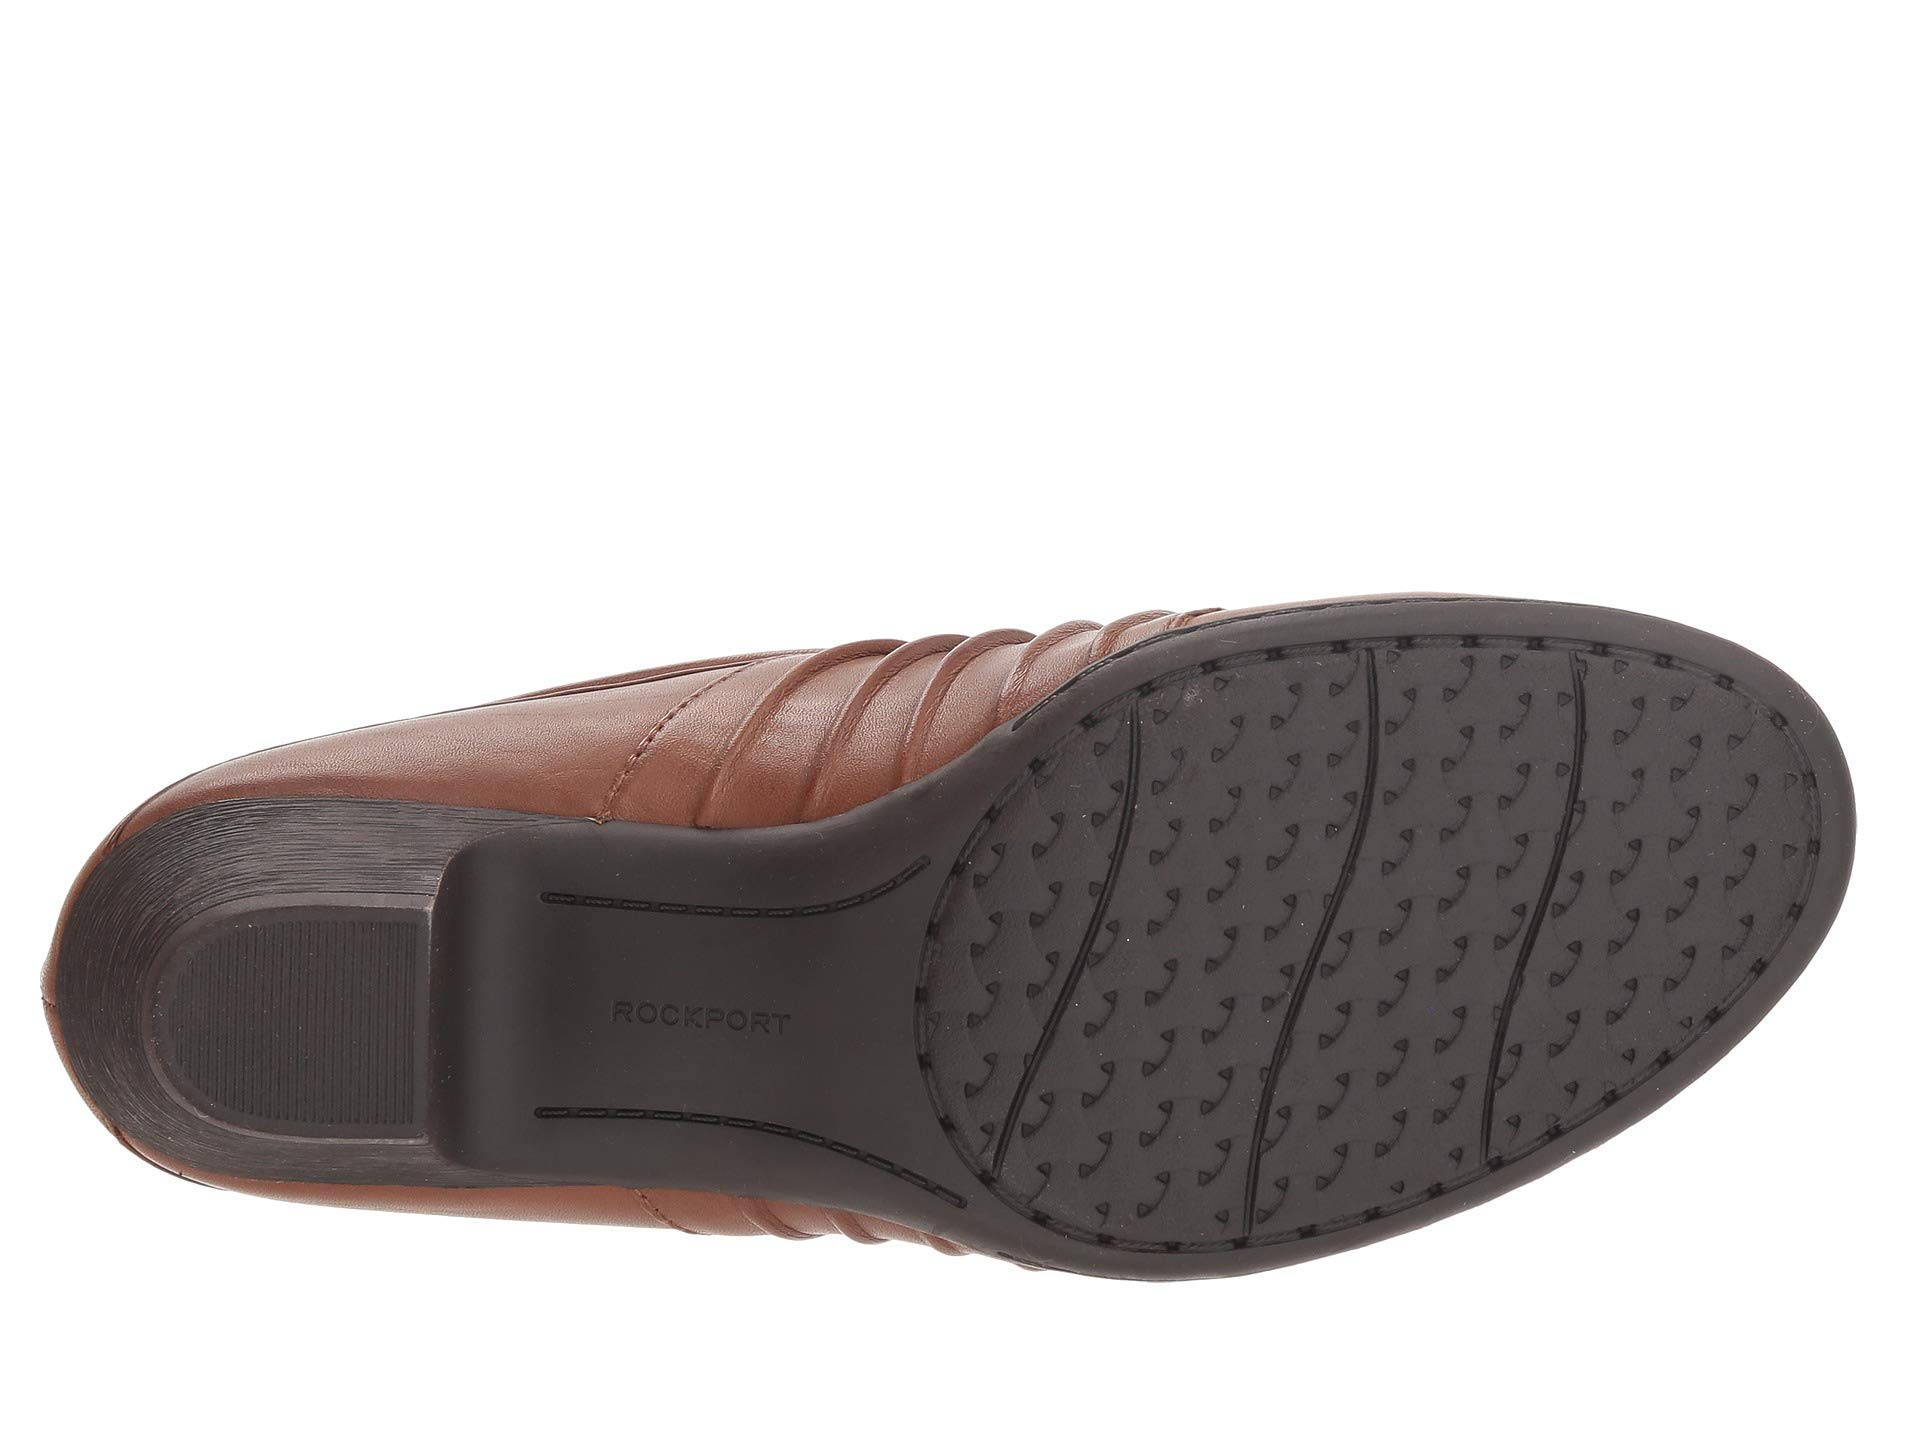line: (230, 948, 373, 1085)
